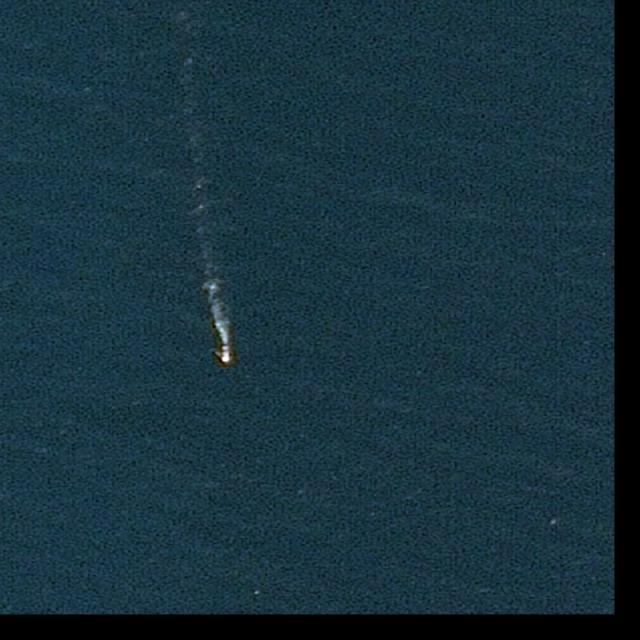ship: (221, 347, 230, 363)
